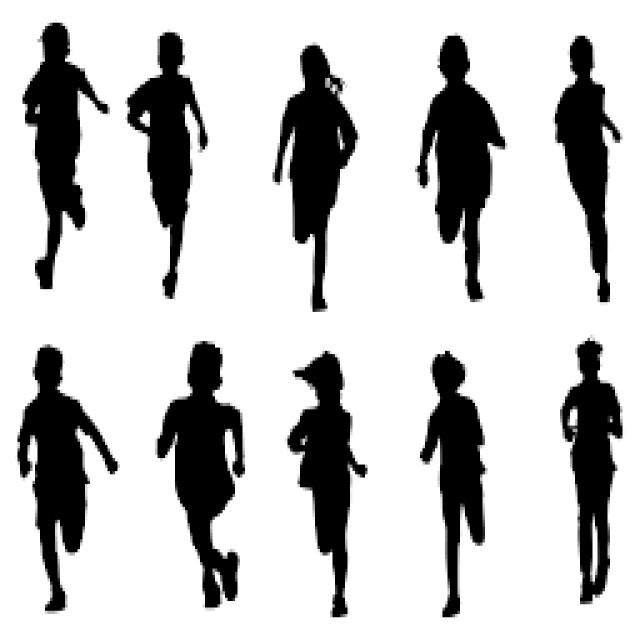Person: (15, 345, 116, 608), (416, 34, 504, 300), (23, 20, 110, 287), (157, 341, 243, 605), (273, 46, 358, 309), (285, 354, 366, 618), (126, 33, 206, 296), (420, 351, 485, 616), (555, 36, 620, 300), (559, 342, 623, 604)
